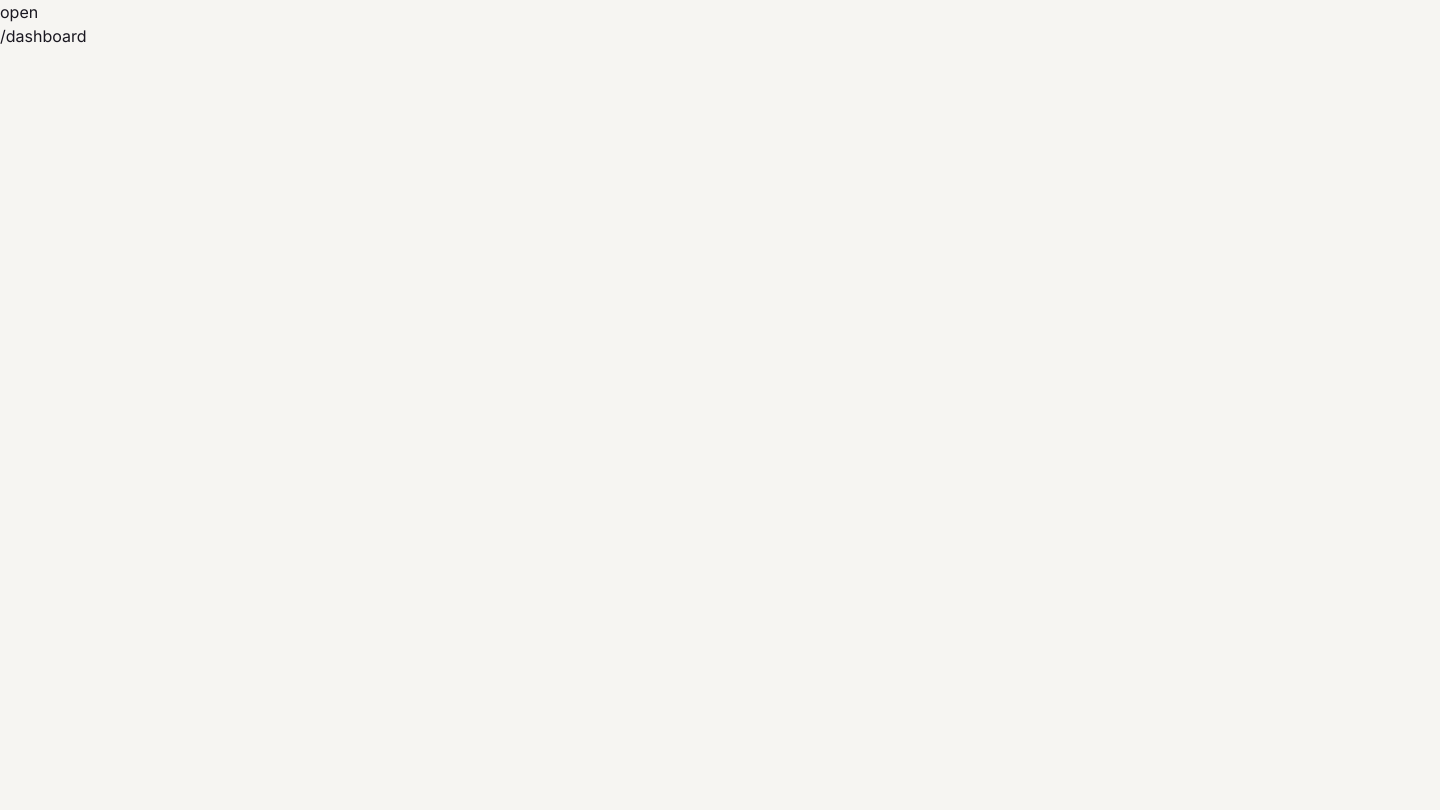
Test: CommandPalette › opens with Ctrl+K, filters by typed words and navigates on Enter
Press k
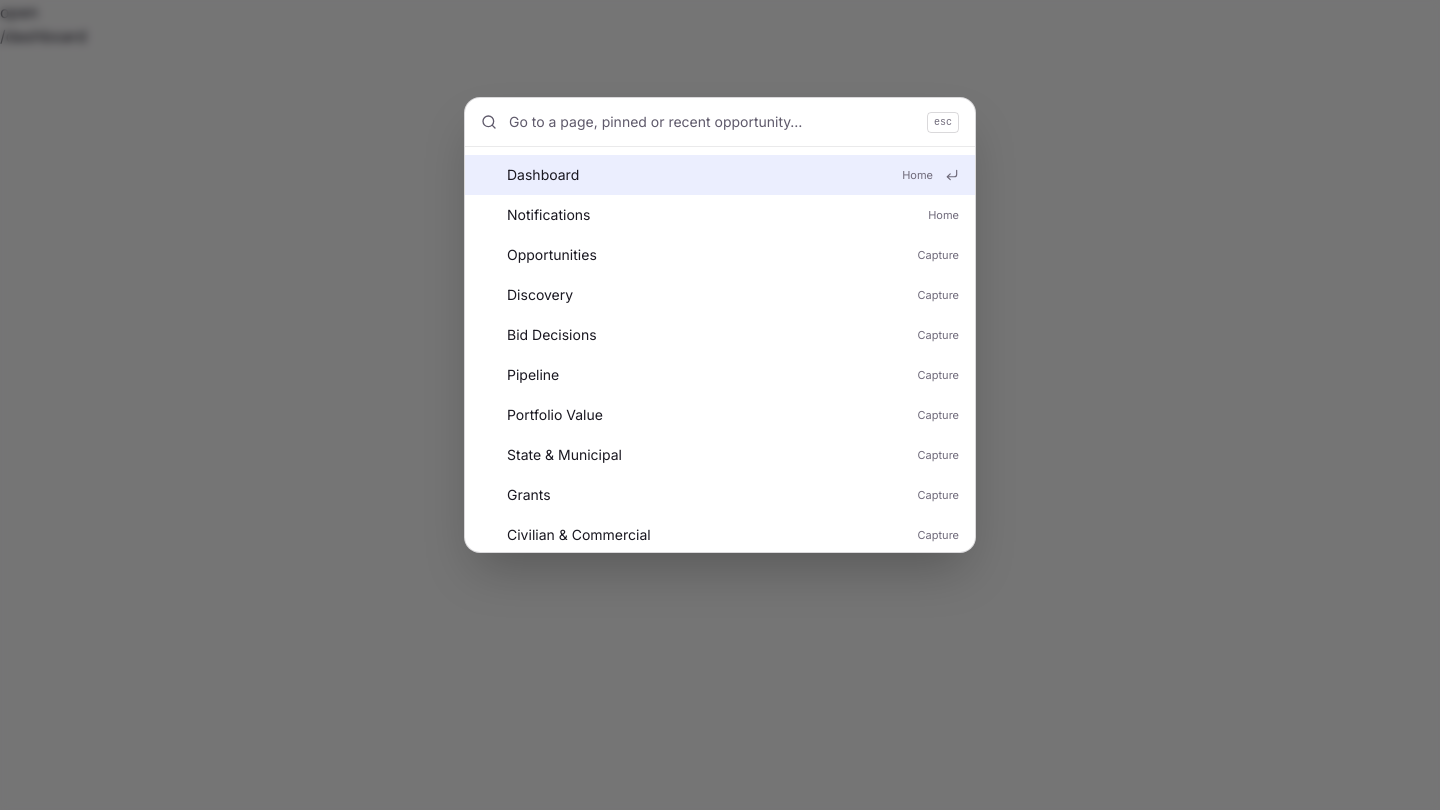
Type "receiv" into the field named "Search pages" at (712, 122), box x1=509 y1=98 x2=915 y2=146
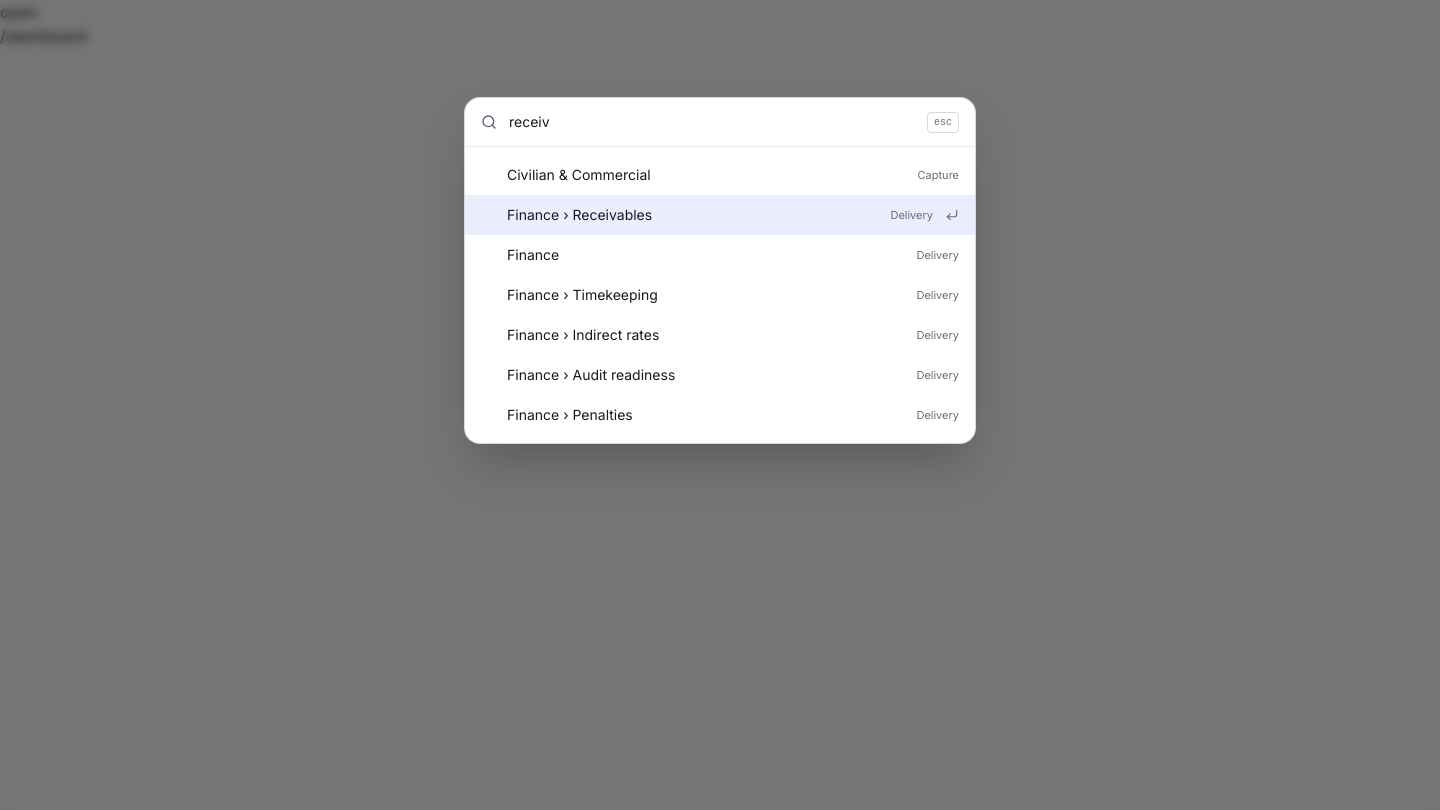
Now the text "Finance › Receivables" is shown, box x1=507 y1=206 x2=652 y2=223
Press Enter in the field named "Search pages", box x1=509 y1=98 x2=915 y2=146
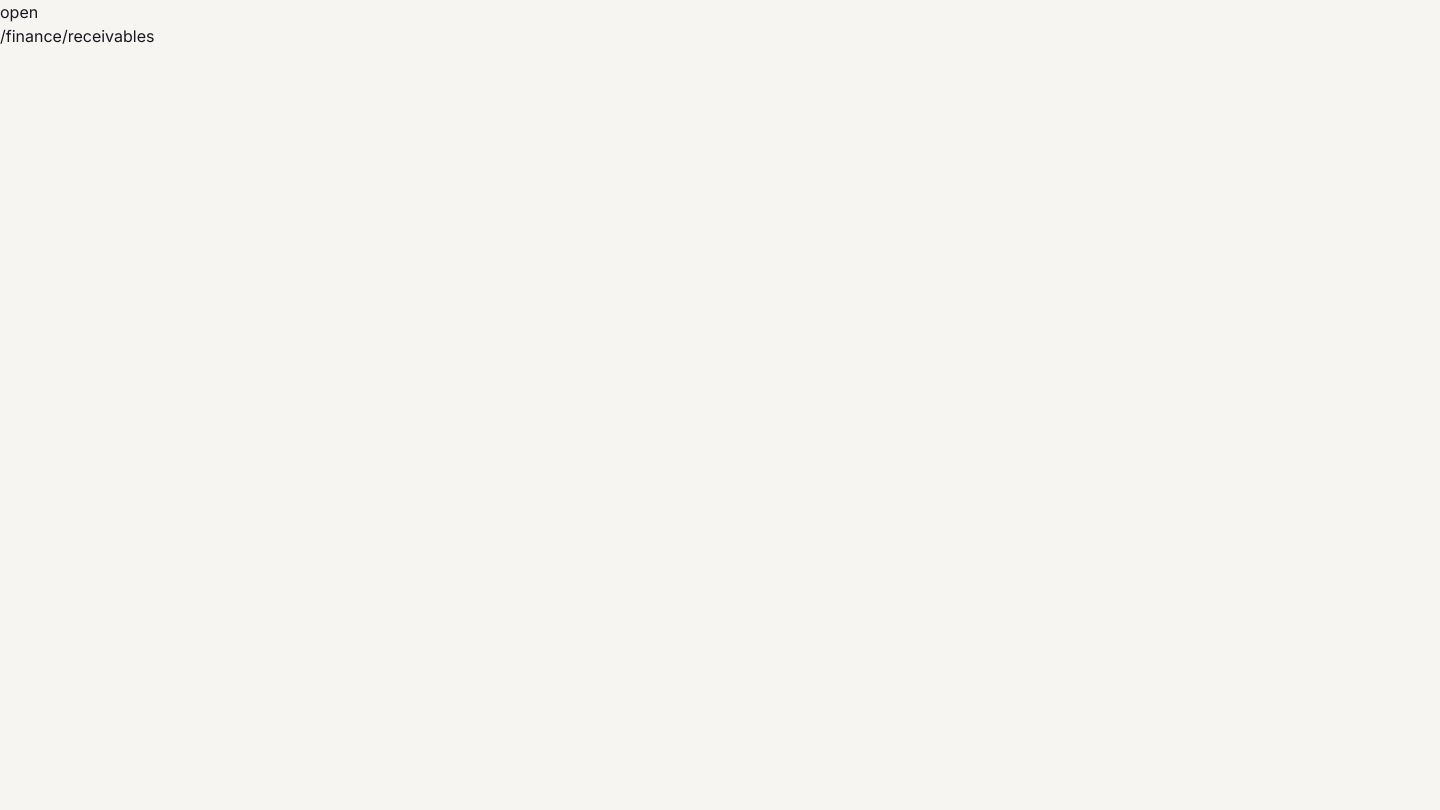
Now the text with test id "location" reads "/finance/receivables", box x1=0 y1=26 x2=154 y2=46
Now the dialog is gone
